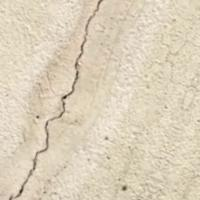crack: (12, 0, 104, 199)
